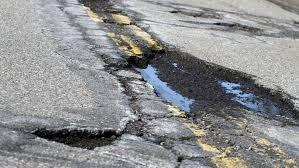alligator-crack: (104, 64, 207, 168), (130, 0, 299, 42)
pothole: (124, 44, 293, 126), (36, 111, 130, 155)
